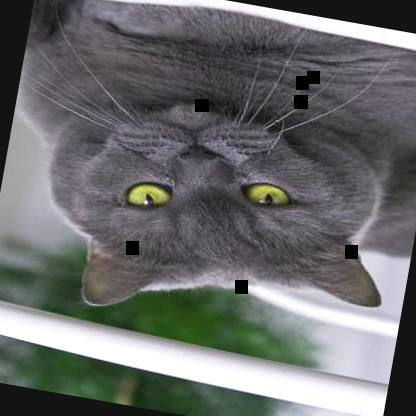cat: (0, 0, 415, 359)
